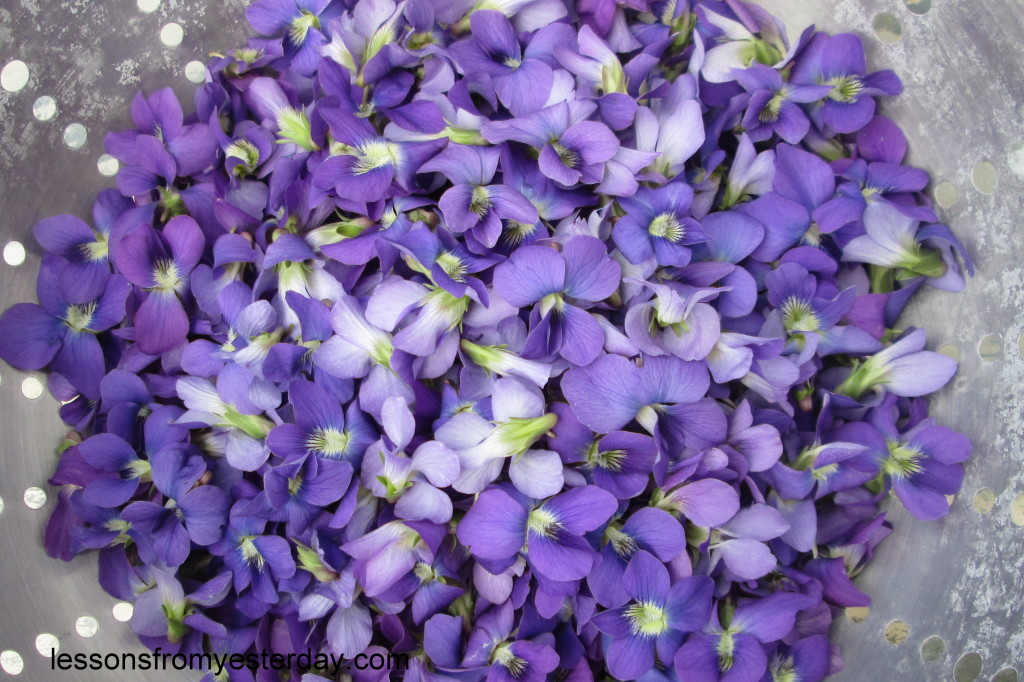violet: (18, 4, 998, 682)
